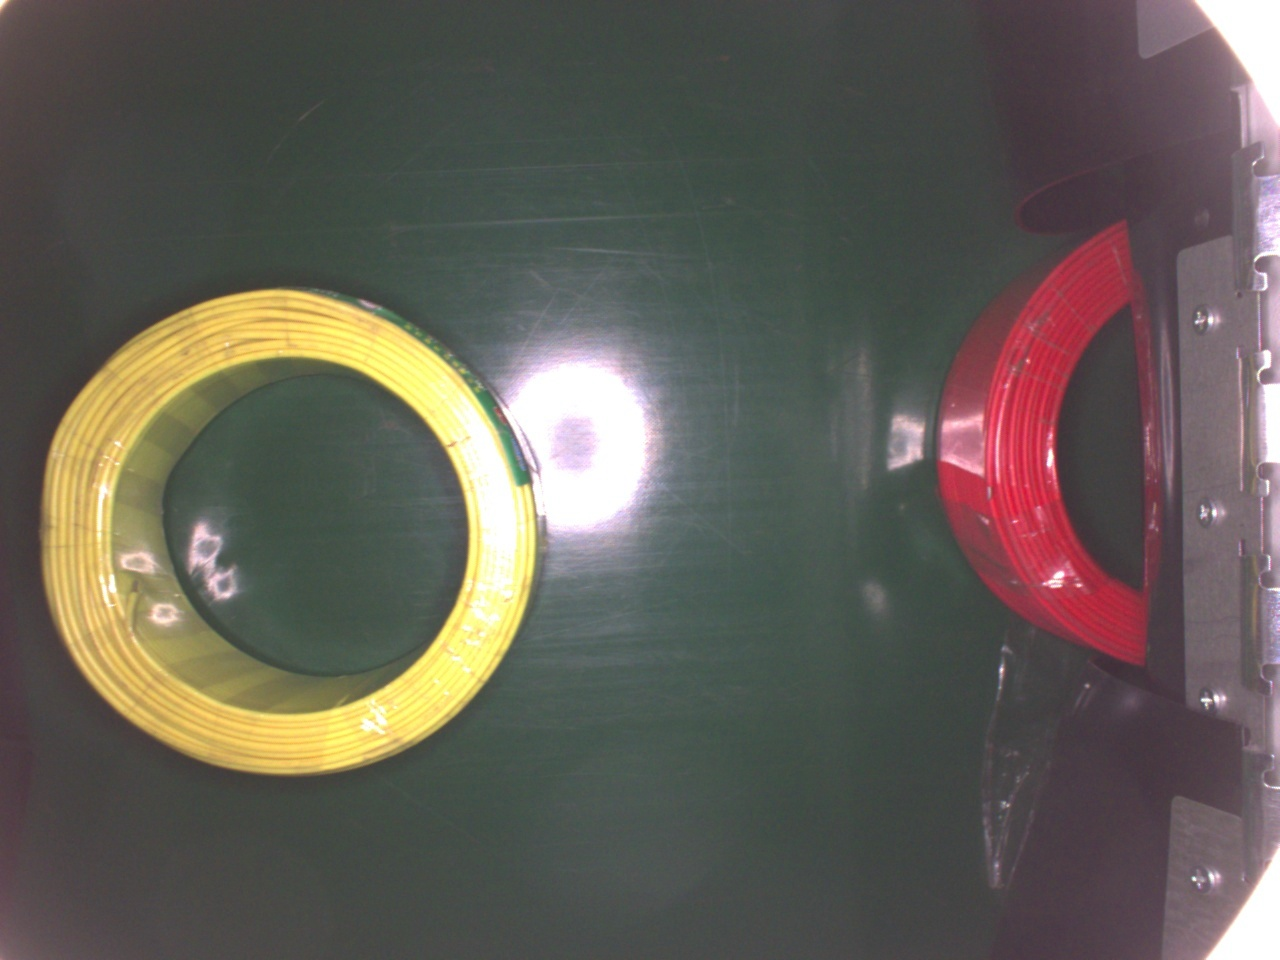red: (932, 204, 1150, 675)
yellow: (40, 280, 541, 775)
